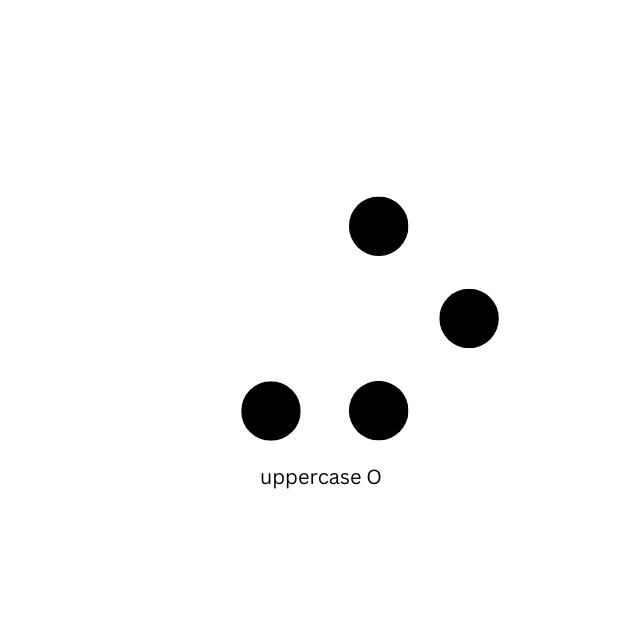capital_sign: (152, 198, 302, 442)
letter_O: (348, 196, 498, 440)
